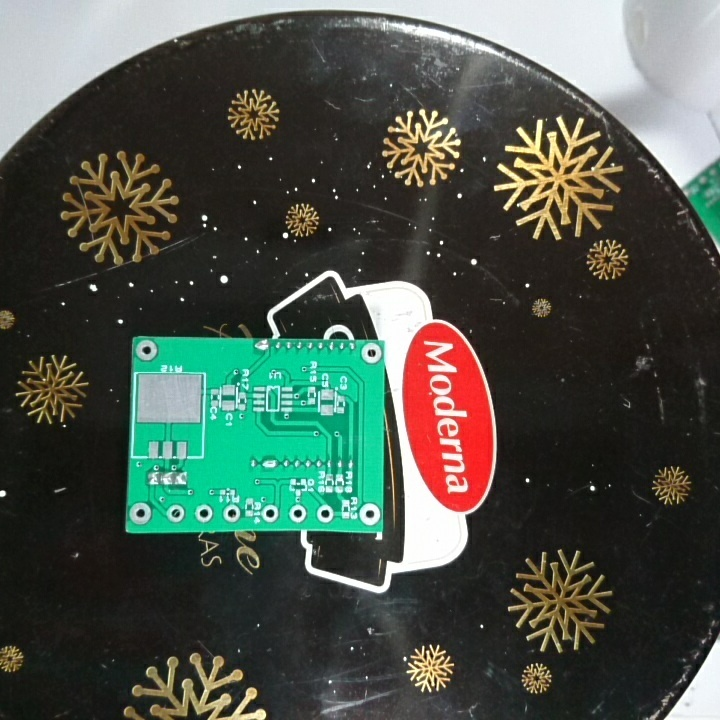F: (127, 501, 154, 526), (358, 501, 382, 528), (134, 339, 159, 364), (359, 340, 382, 366), (285, 501, 309, 525), (164, 500, 188, 524), (219, 502, 242, 524), (258, 501, 279, 525), (192, 502, 214, 523), (315, 501, 333, 525)
P: (259, 452, 281, 473), (251, 337, 273, 355)
